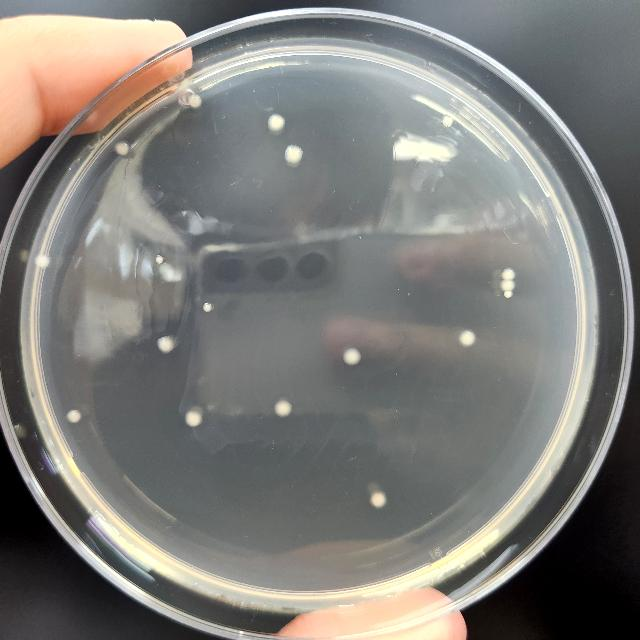colony: (266, 112, 286, 132), (343, 347, 361, 367), (458, 328, 476, 348), (285, 144, 303, 164), (185, 410, 203, 428), (158, 336, 176, 354), (370, 490, 388, 508), (276, 398, 292, 418), (115, 140, 131, 156), (33, 254, 51, 268), (66, 410, 82, 424), (188, 94, 202, 110), (502, 267, 516, 281), (501, 280, 515, 292), (202, 302, 214, 314), (442, 115, 454, 127), (155, 255, 165, 265), (504, 292, 512, 298)
